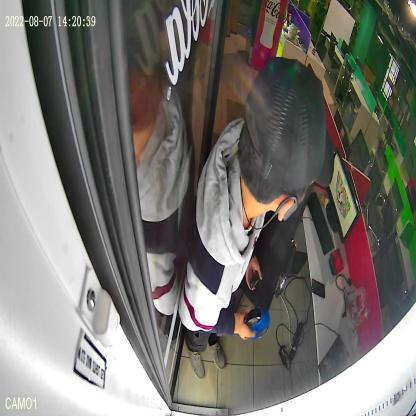blue: (242, 307, 270, 339)
